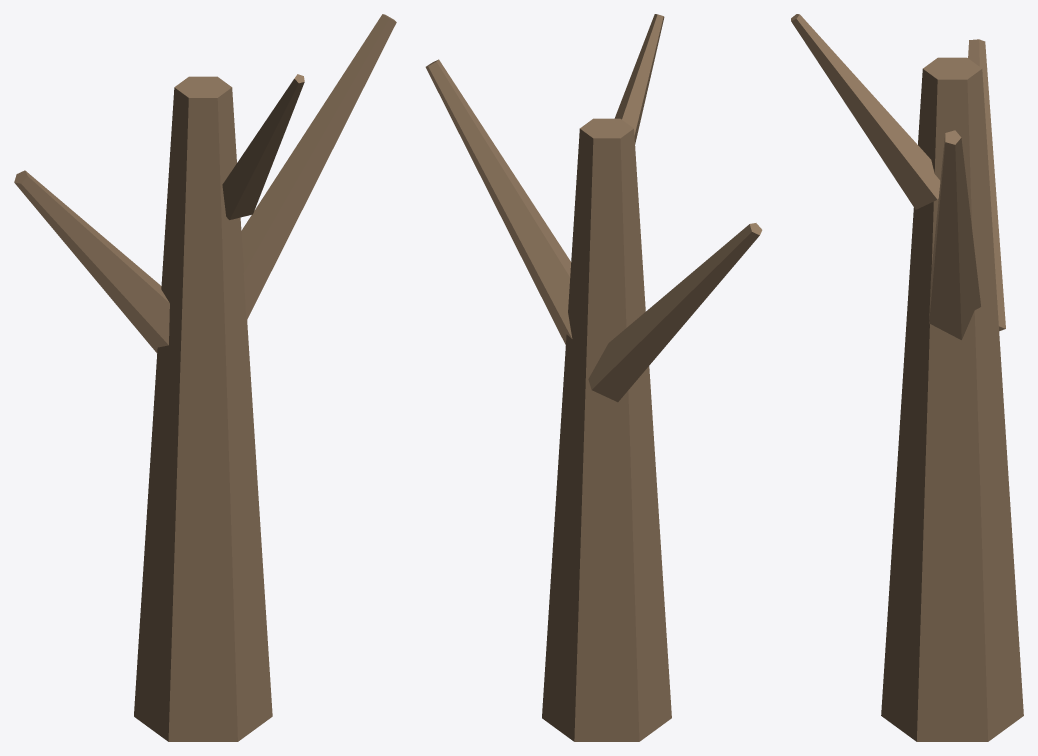
The model's file is SM_DeadTree.fbx.
The picture shows the model from 3 angles, left to right: view 1: azimuth 30°, elevation 25°; view 2: azimuth 150°, elevation 25°; view 3: azimuth 270°, elevation 25°; orthographic projection. The views are drawn at different scales.
Parts seen in each view (by area): view 1: SM_DeadTree; view 2: SM_DeadTree; view 3: SM_DeadTree.
Boxes of the visible parts, box(x1,y1,x2,y2) form: SM_DeadTree: box(14, 14, 396, 741); SM_DeadTree: box(425, 14, 762, 741); SM_DeadTree: box(791, 14, 1023, 741).
Bounding box in the file's own units: 735 × 1320 × 391.
